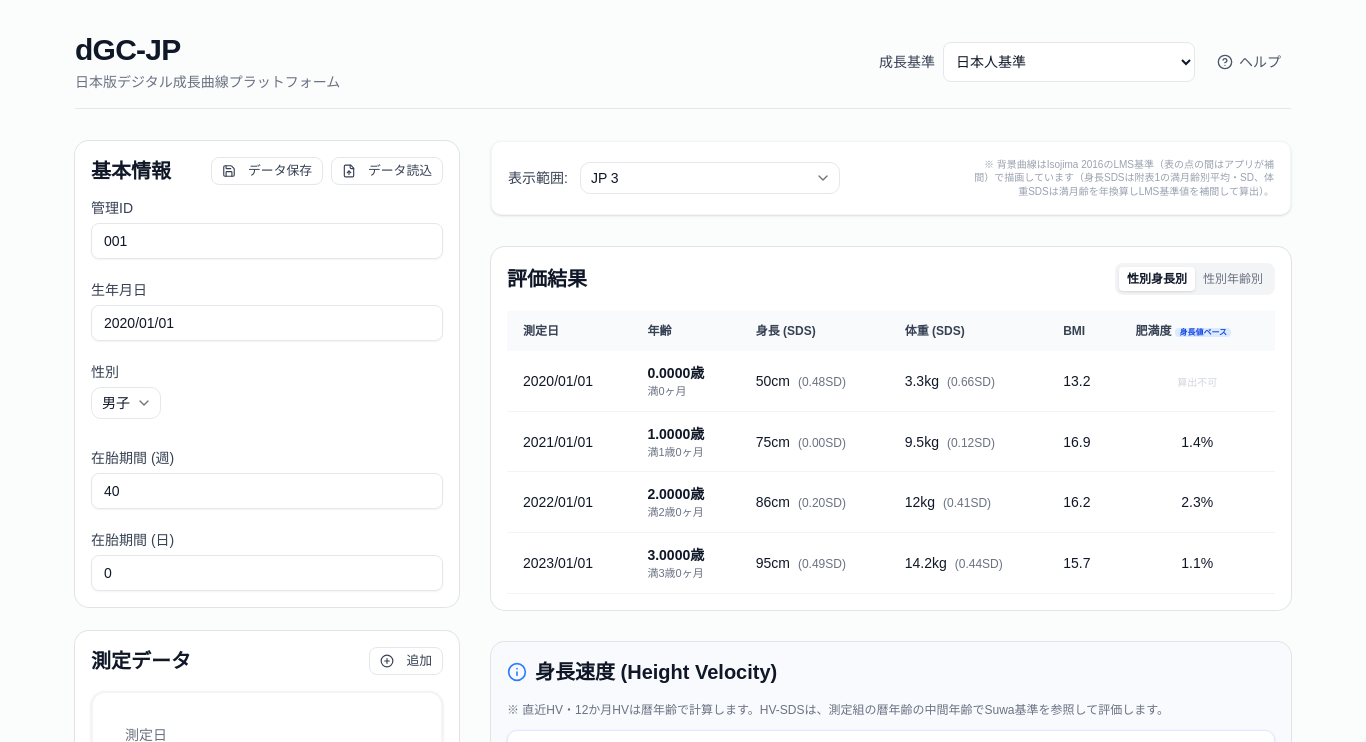
Test: GrowthDashboard: achondroplasia (CLARITY) mode › shows the description for the selected reference only
Select "軟骨無形成症（CLARITY・米国）" in the dropdown labelled "成長基準" at coordinates (1069, 62), box [943,42,1195,82]
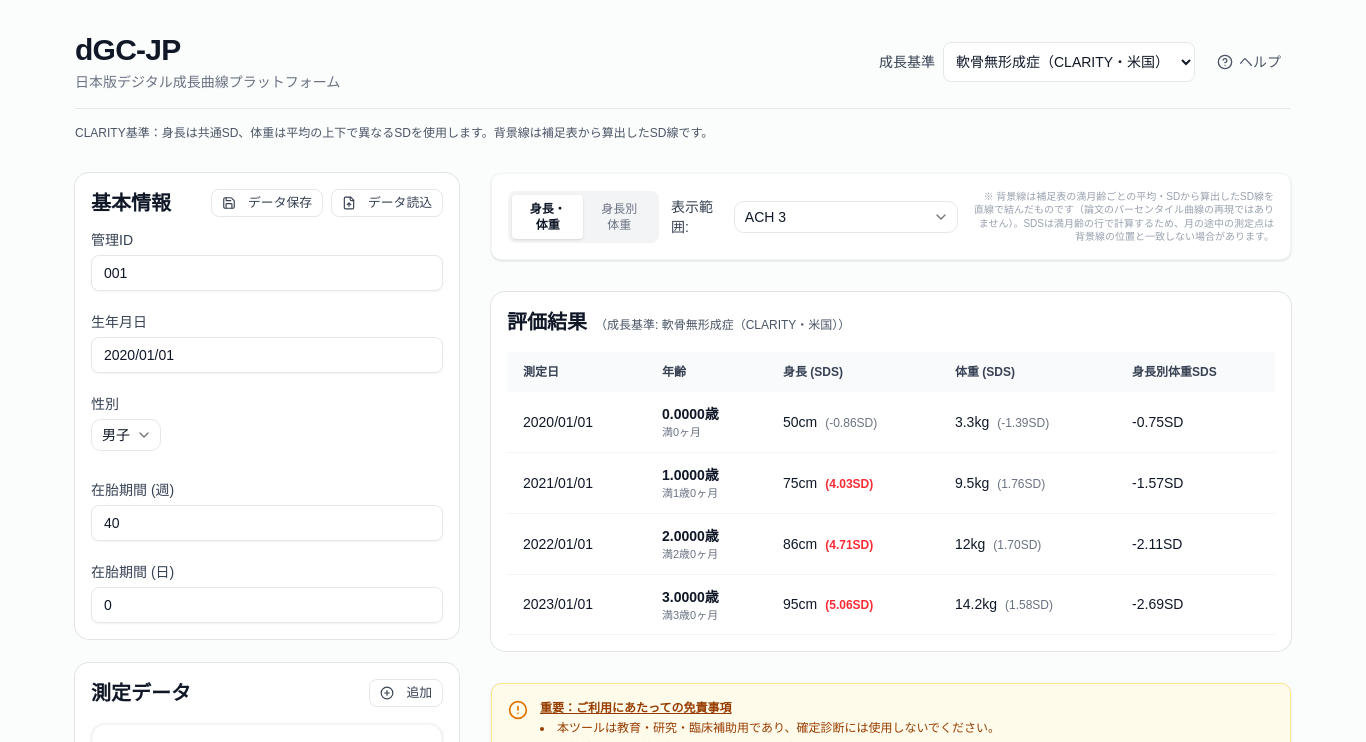
Result: the text with id "growth-reference-description" reads "CLARITY基準：身長は共通SD、体重は平均の上下で異なるSDを使用します。背景線は補足表から算出したSD線です。" at [75,126,713,140]
